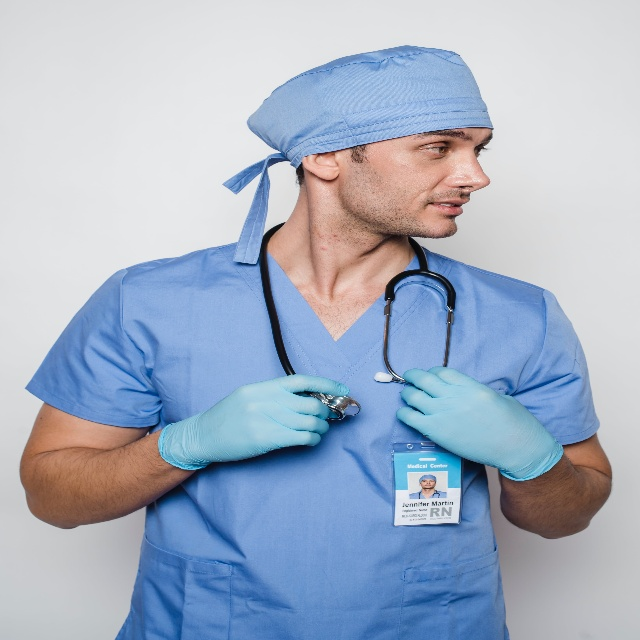Guantes: (395, 365, 565, 483), (158, 373, 350, 471)
